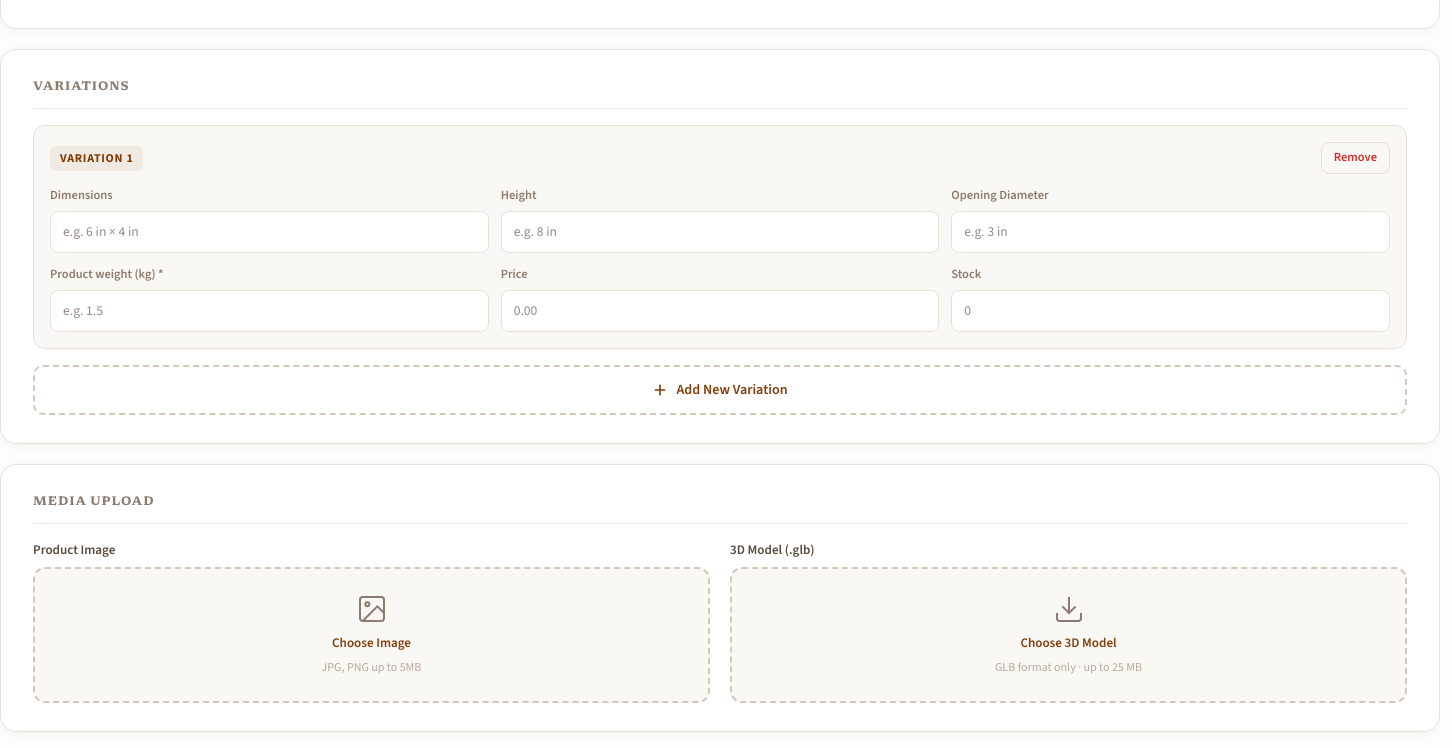
Test: admin product upload form › starts with required weight and product dimensions without optional shipping fields
(page scrolled)
expect the text "Variation 1" is shown: met, box [50,146,143,171]
expect the number field labelled "Product weight (kg) *" is not empty: met, box [50,290,489,332]
Step 1. Click the button "Add New Variation" → (720, 390), box [33,365,1407,415]
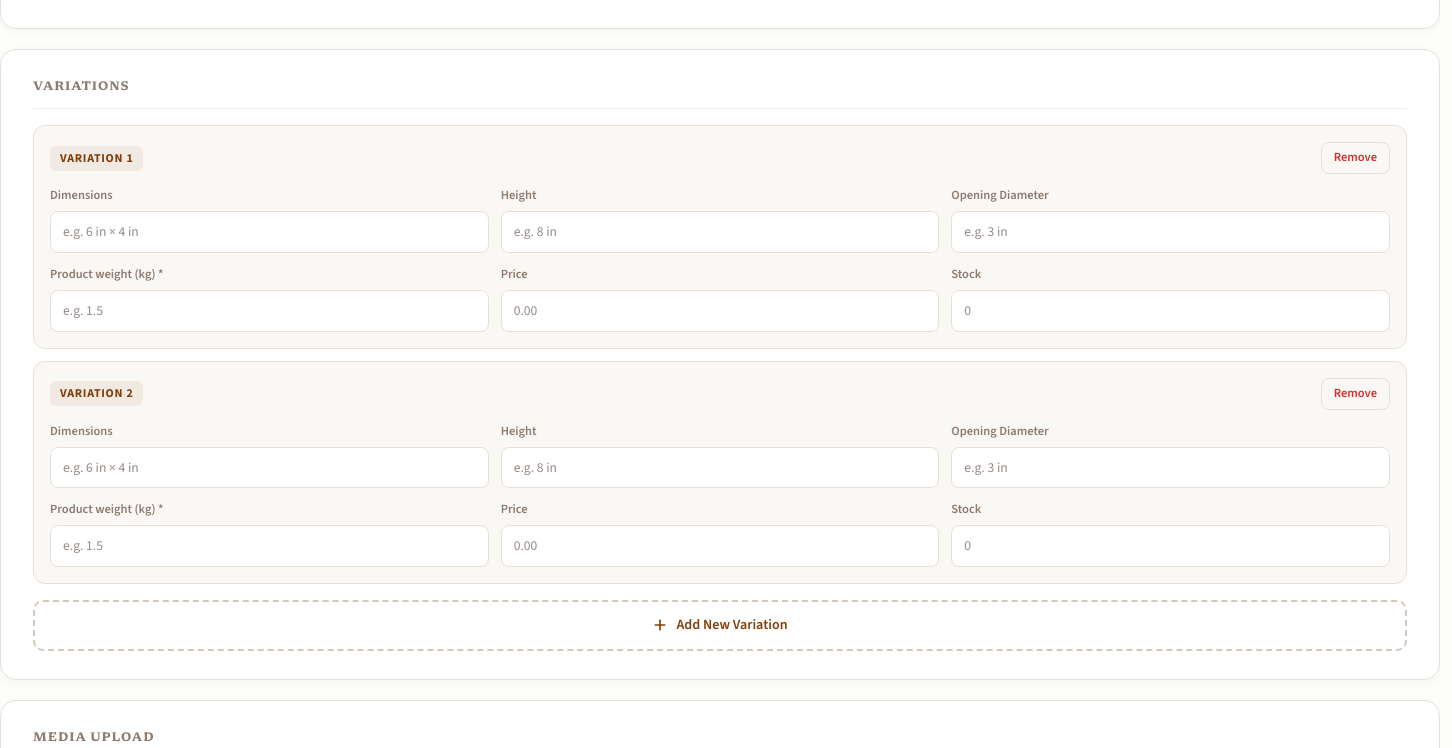
expect the text "Variation 2" is shown: met, box [50,381,143,406]
Step 2. Click the 2nd button "Remove" → (1355, 394), box [1321,378,1390,410]
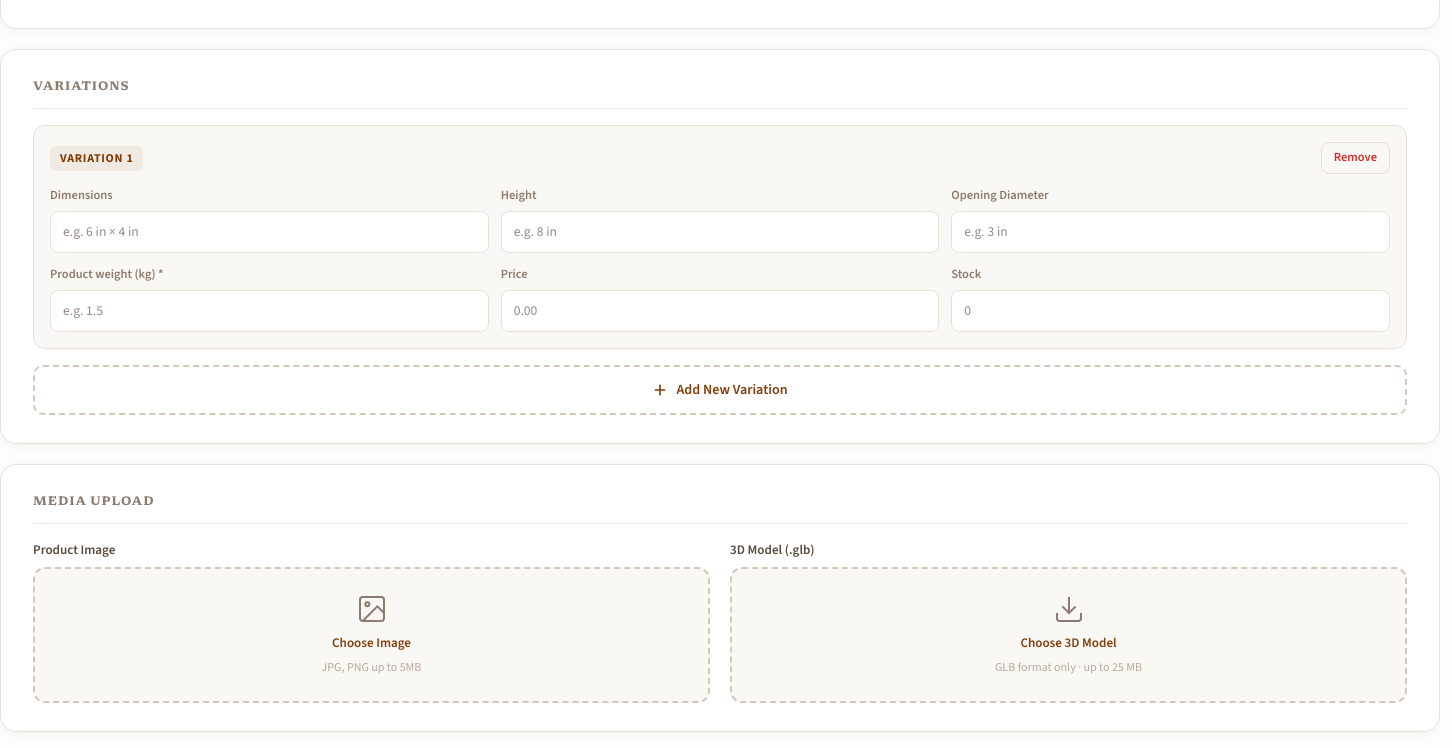
expect the text "Variation 2" is gone: met
Step 3. Click the button "Remove" → (1355, 158), box [1321,142,1390,174]
(page scrolled)
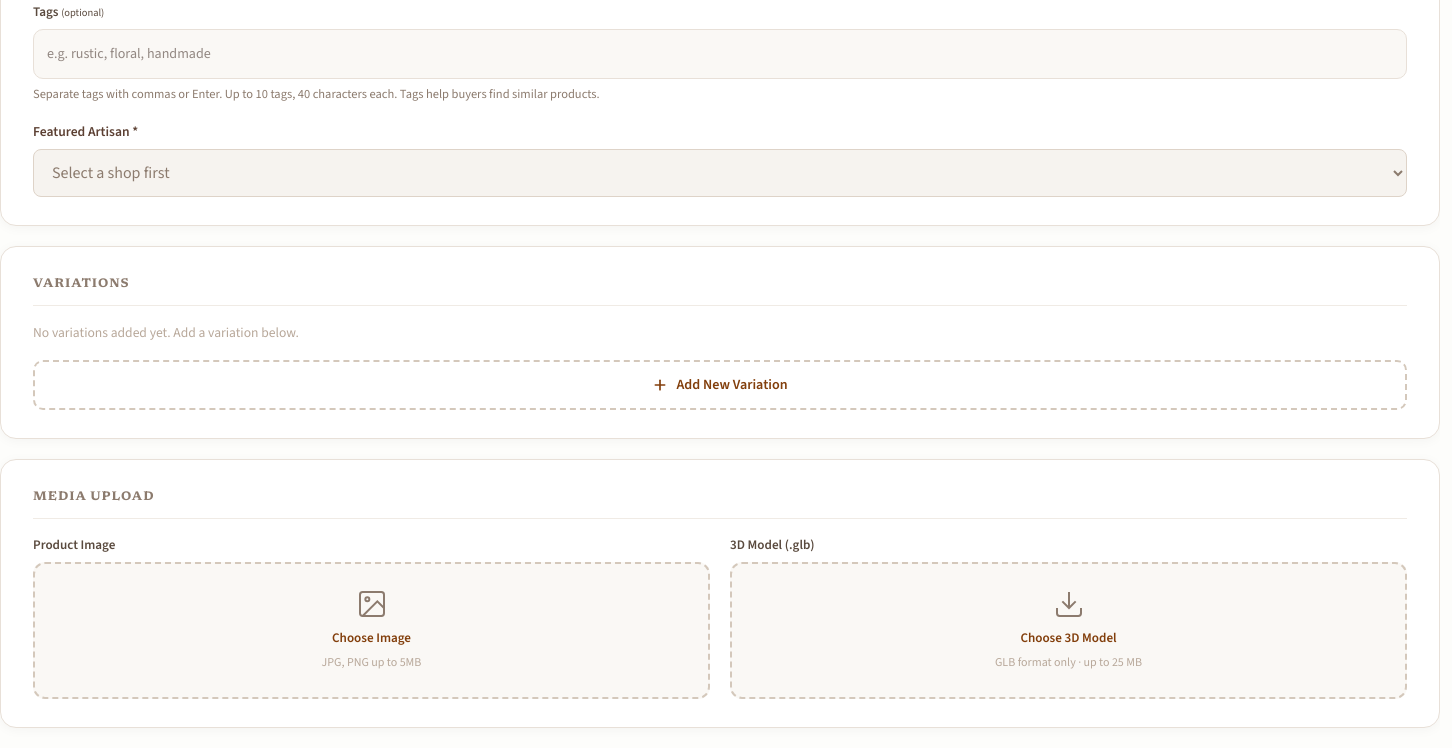
expect the text "No variations added yet. Add a variation below." is shown: met, box [33,323,299,342]
Step 4. Click the button "Add New Variation" → (720, 385), box [33,360,1407,410]
(page scrolled)
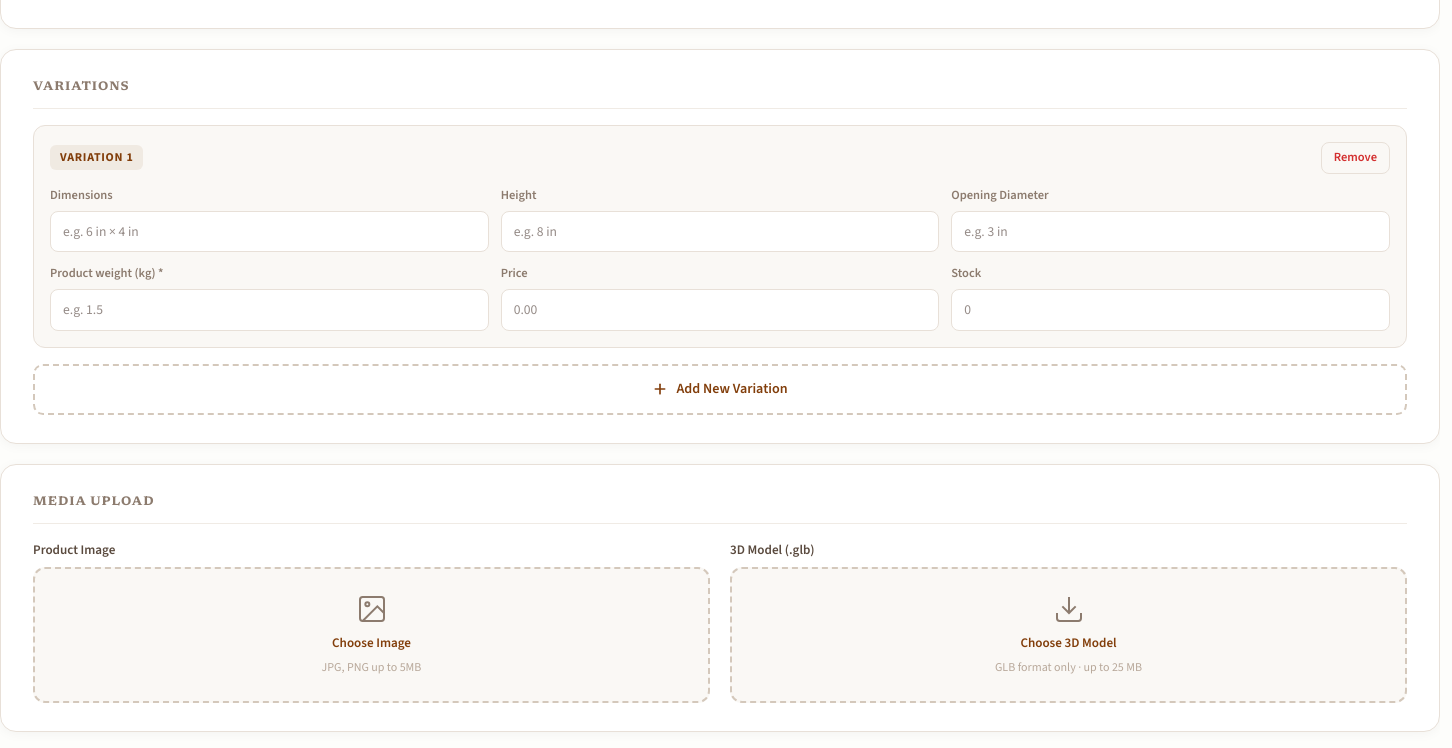
expect the text "Variation 1" is shown: met, box [50,145,143,170]
